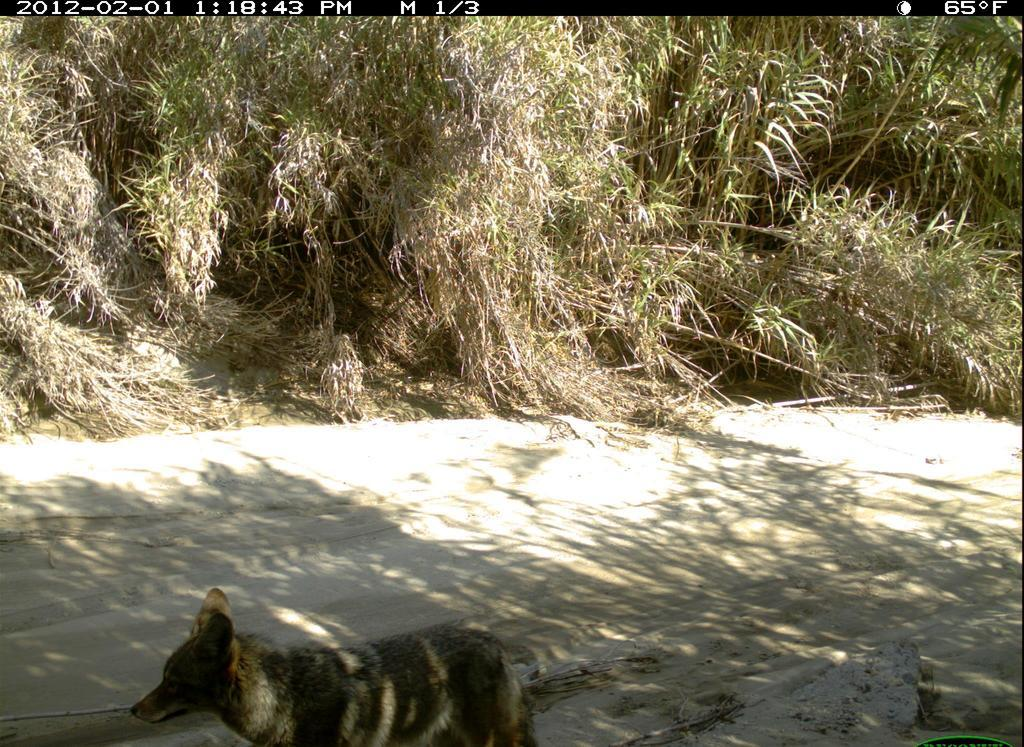coyote: (116, 585, 555, 747)
